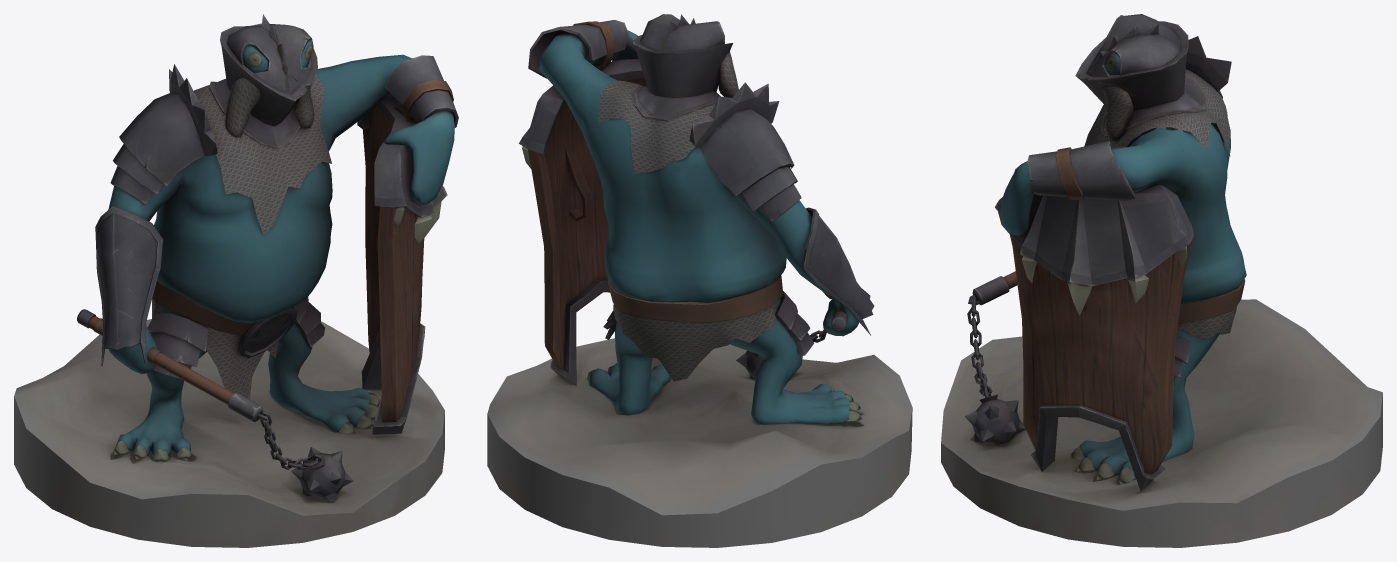
The model's file is Char_Enem_Luigi.glb.
3 views of the same model, side by side, from view 1: azimuth 30°, elevation 25°; view 2: azimuth 150°, elevation 25°; view 3: azimuth 270°, elevation 25° (orthographic). The views are drawn at different scales.
Visible parts, largest first — view 1: pDisc8; view 2: pDisc8; view 3: pDisc8.
Part boxes in pixels (x1,y1,x2,y2): pDisc8: (14, 14, 458, 547); pDisc8: (487, 14, 912, 547); pDisc8: (941, 14, 1382, 547).
Size of the model in its own units: 1.69 by 1.88 by 1.68.
2 materials, 2 textured.
